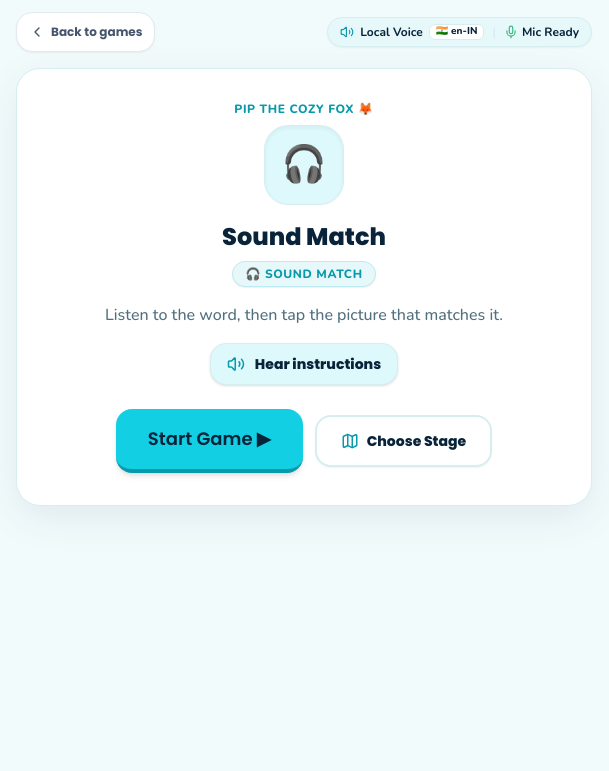
Test case: Sound Match 100-Level Phonics & Stage Progression Suite › 6. Child Engagement, Rewards & 100-Level Progression Suite › 6.2 Displays theme preview for locked stages in stage selector
This screenshot has width=609, height=771.
Click the button with test id "choose-stage-button" at (403, 441), box [315,415,492,467]
(page scrolled)
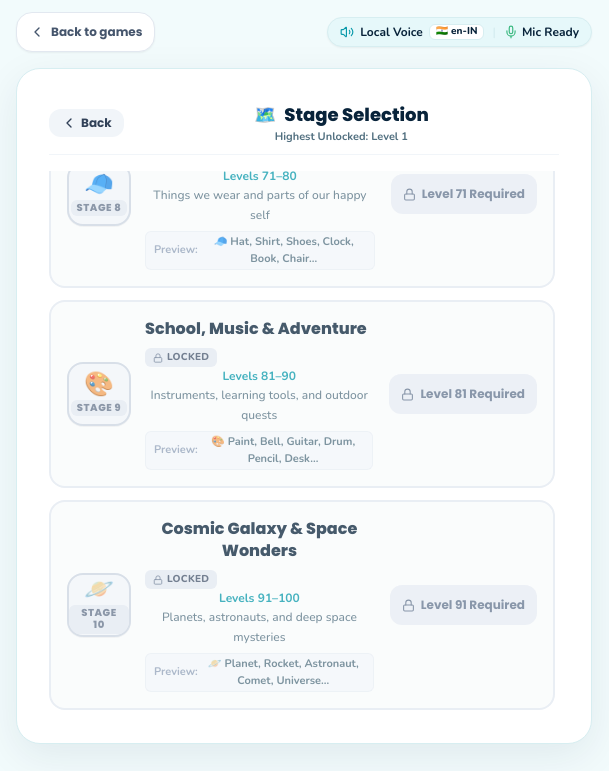
Result: the element with test id "stage-preview-10" is shown at [145,653,374,692]
Result: the element with test id "stage-preview-10" reads "Preview: 🪐 Planet, Rocket, Astronaut, Comet, Universe…" at [208,656,359,688]
